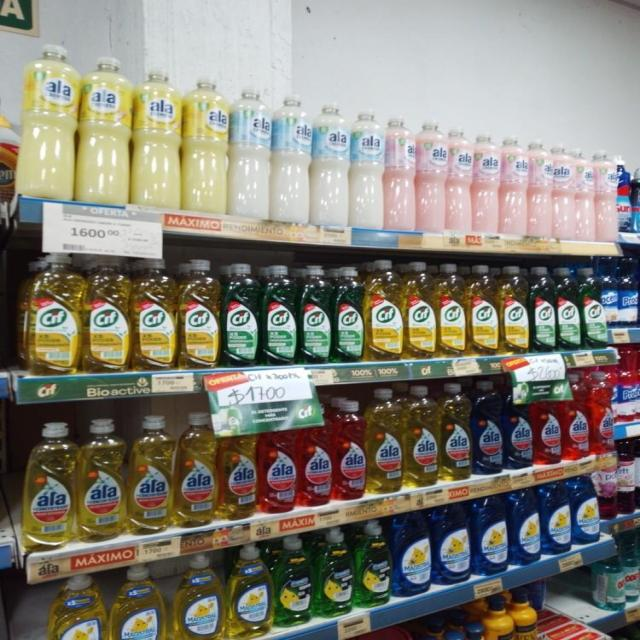ala_conc_amarillo: (21, 421, 75, 548), (77, 418, 126, 542), (128, 414, 173, 534), (175, 412, 218, 528), (219, 404, 258, 522), (367, 387, 403, 496), (404, 384, 439, 489), (440, 382, 471, 483)
ala_conc_azul: (472, 379, 503, 476), (504, 379, 532, 471)
ala_conc_rojo: (259, 401, 299, 515), (300, 399, 332, 509), (334, 397, 366, 502), (534, 377, 562, 466), (563, 372, 589, 462), (591, 369, 614, 456)
ala_crem_blanco: (312, 101, 348, 228), (351, 107, 383, 230)
ala_crem_rosado: (385, 113, 415, 232), (417, 116, 446, 233), (472, 130, 500, 235), (500, 134, 527, 237), (447, 123, 472, 234), (528, 139, 552, 238), (554, 142, 576, 241), (596, 148, 617, 242)
cif_conc_bot_amarilla: (24, 251, 82, 376), (85, 254, 130, 374), (132, 256, 176, 373), (178, 258, 220, 370), (365, 260, 403, 362), (404, 260, 435, 360), (436, 262, 466, 359), (467, 264, 498, 357), (499, 265, 528, 355)
cif_conc_botella_verde: (222, 262, 260, 368), (262, 263, 298, 367), (299, 264, 332, 365), (333, 265, 363, 364), (530, 265, 555, 353), (557, 266, 580, 351), (581, 266, 604, 350)
magistral_con_amarillo: (172, 552, 225, 640), (227, 544, 272, 640), (110, 564, 166, 640), (48, 573, 106, 640)
magistral_con_azul: (393, 511, 431, 597), (433, 504, 471, 586), (472, 495, 508, 576), (510, 489, 540, 566), (541, 483, 571, 556)
